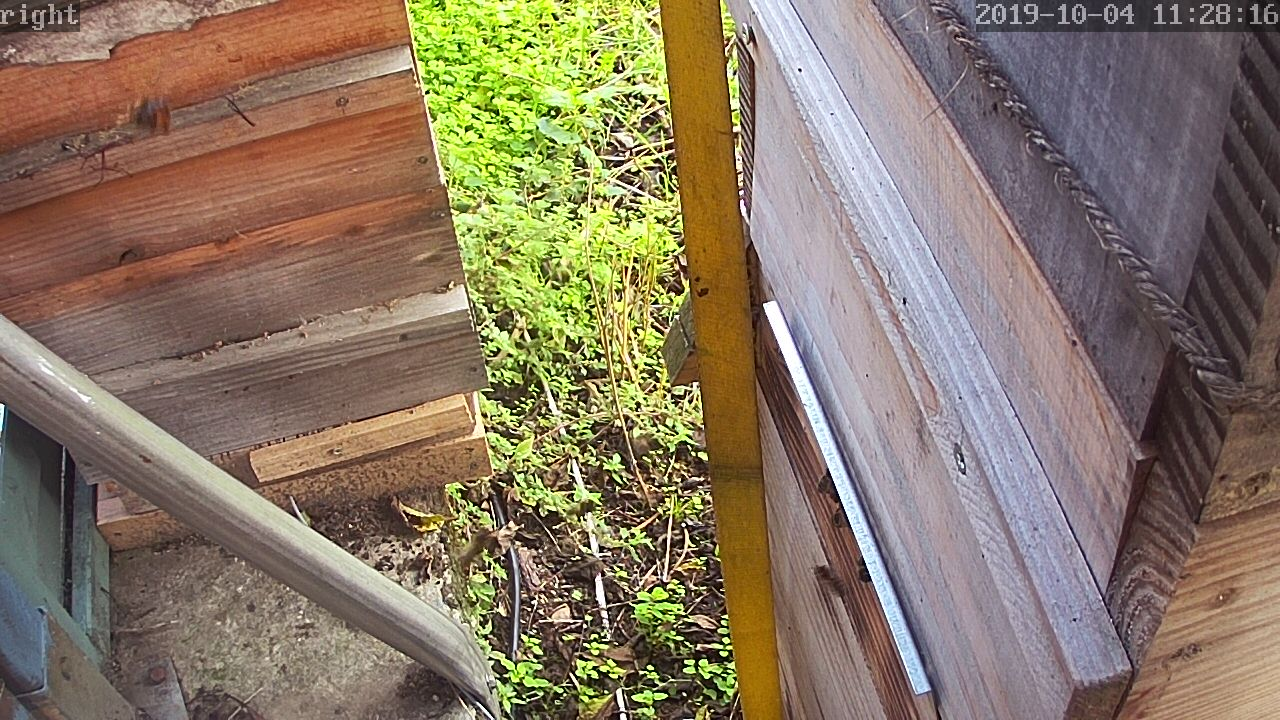bee: (813, 562, 848, 597), (812, 472, 843, 505), (828, 503, 857, 534)
